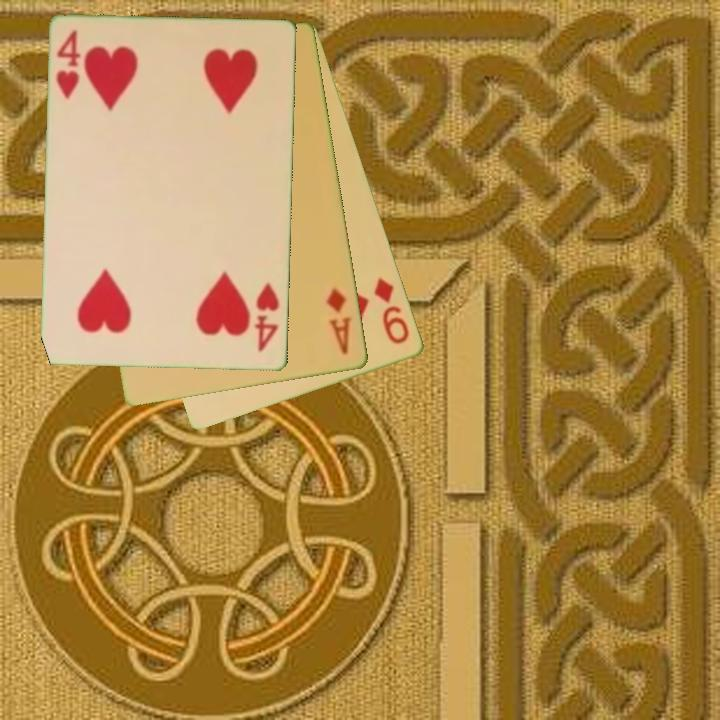4h: (251, 280, 283, 355), (53, 26, 84, 102)
9d: (371, 273, 413, 347)
Ad: (323, 284, 355, 358)
